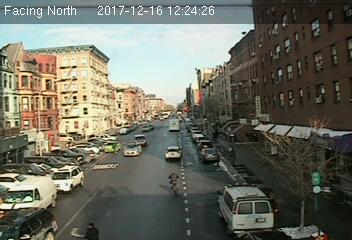bicycle: (167, 172, 181, 199)
car: (48, 165, 83, 194), (164, 145, 182, 161), (123, 142, 141, 157), (201, 148, 218, 162), (133, 134, 147, 145)
police: (215, 183, 277, 235)
truck: (1, 176, 55, 214), (168, 118, 179, 132)
